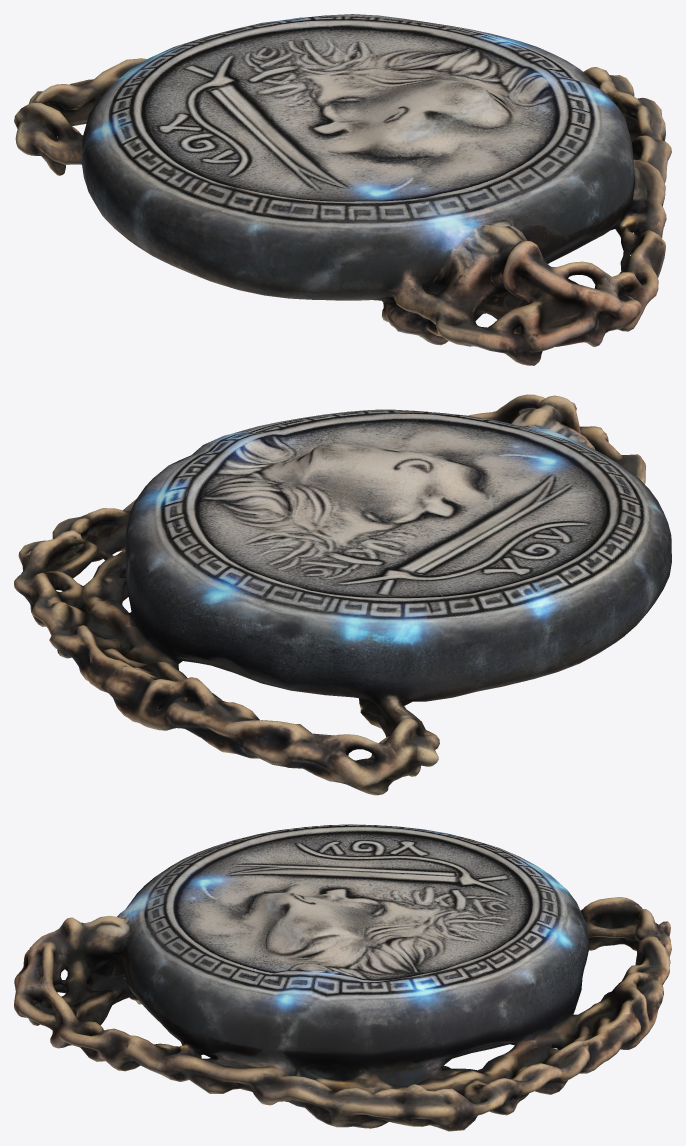
3 renders of one model, top to bottom at view 1: azimuth 30°, elevation 25°; view 2: azimuth 150°, elevation 25°; view 3: azimuth 270°, elevation 25°, orthographic. The views are drawn at different scales.
Size of the model in its own units: 1.68 by 0.4368 by 2.
Materials: 1 (1 with a texture image).
